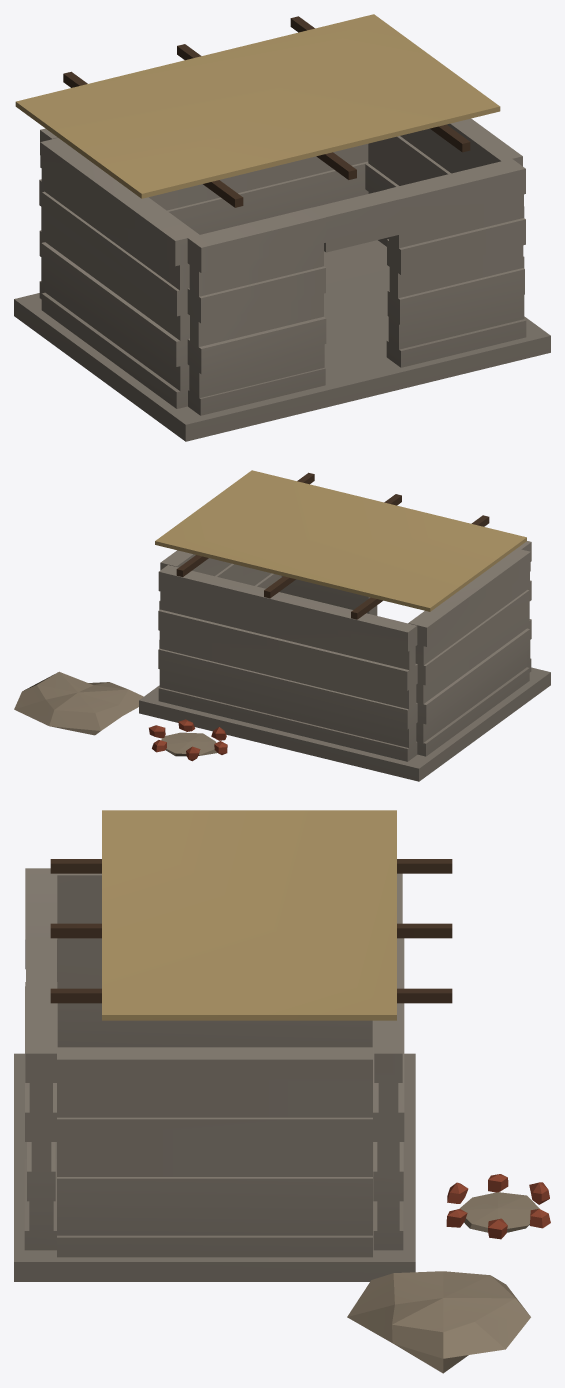
The model's file is caral_house_late_lod0.glb.
3 views of the same model, one above another, from view 1: azimuth 30°, elevation 25°; view 2: azimuth 150°, elevation 25°; view 3: azimuth 270°, elevation 25° (orthographic). The views are drawn at different scales.
Parts seen in each view (by area): view 1: GEO-Arch_house_late_LOD0; view 2: GEO-Arch_house_late_LOD0; view 3: GEO-Arch_house_late_LOD0.
Boxes of the visible parts, x1,y1,x2,y2 form: GEO-Arch_house_late_LOD0: (14,14,550,441); GEO-Arch_house_late_LOD0: (14,470,550,781); GEO-Arch_house_late_LOD0: (14,810,550,1373).
Size of the model in its own units: 7.57 by 3.32 by 5.88.
